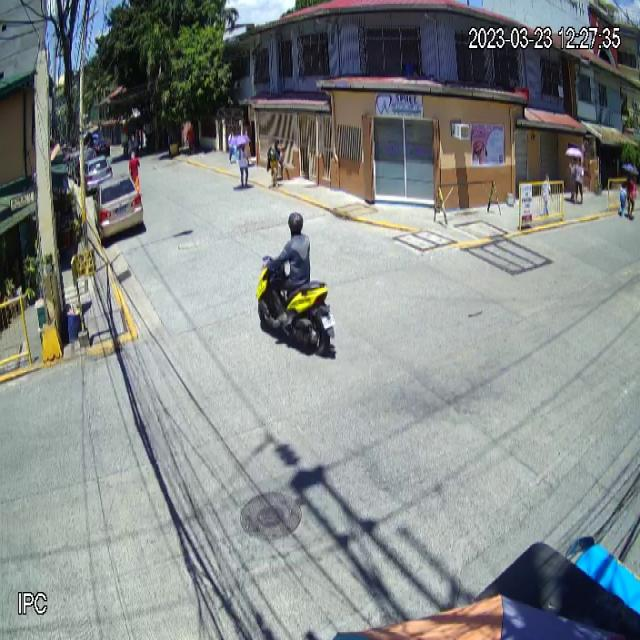Motorcycle: (255, 253, 336, 357)
